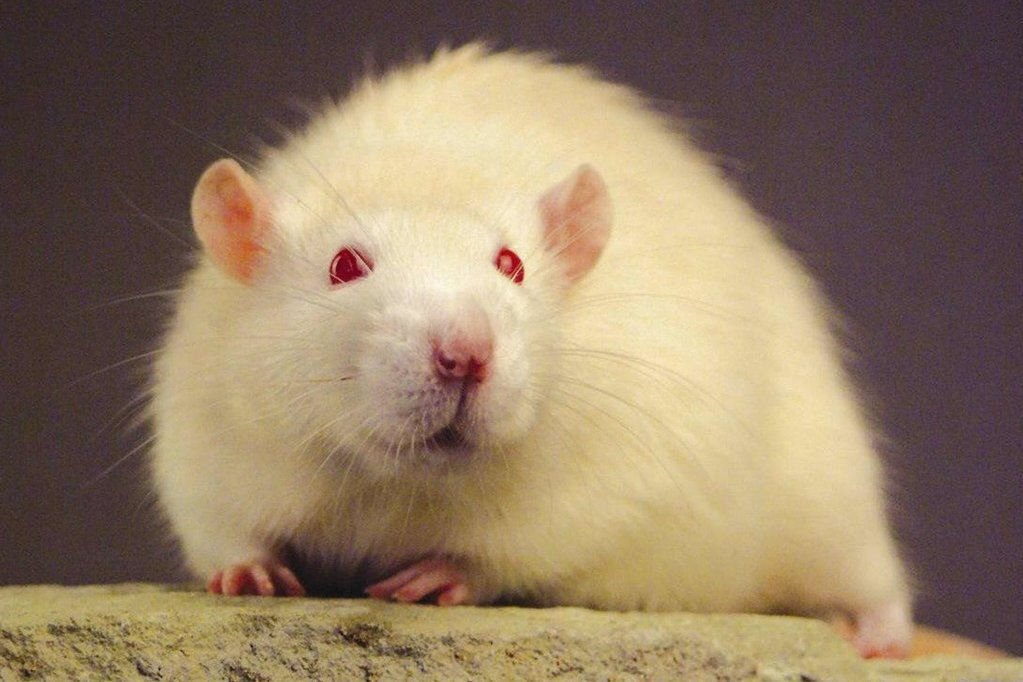mouse: (93, 16, 951, 663)
